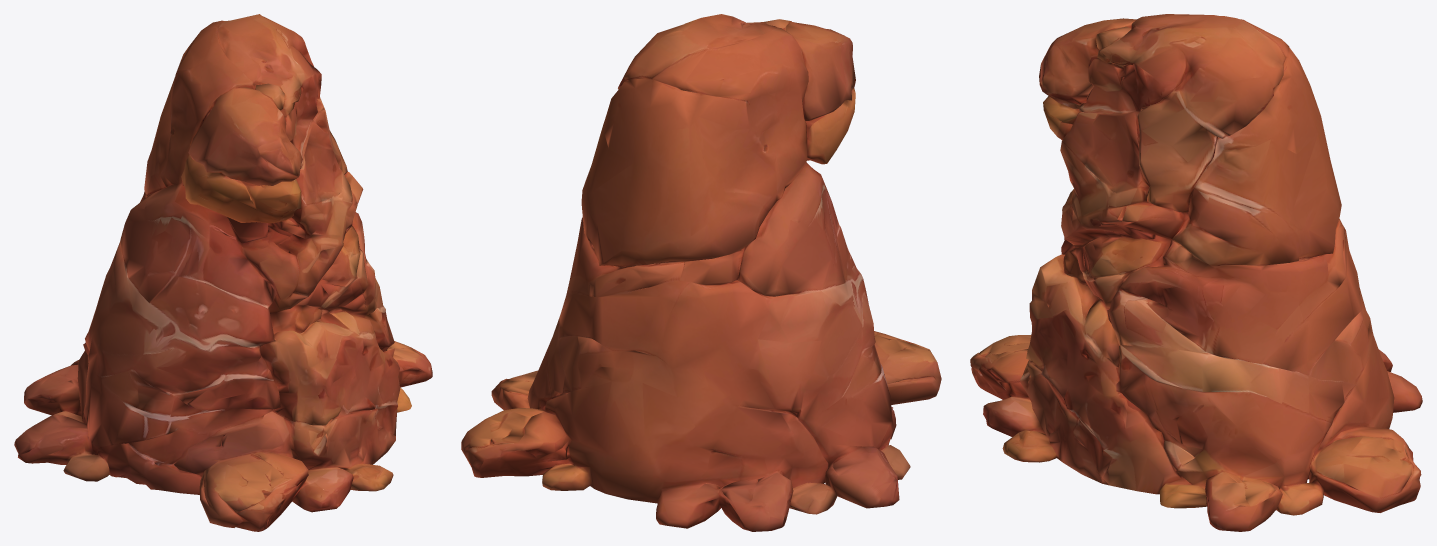
Rendered from prop_mile_rock.fbx.
The picture shows the model from 3 angles, left to right: view 1: azimuth 30°, elevation 25°; view 2: azimuth 150°, elevation 25°; view 3: azimuth 270°, elevation 25°; orthographic projection. The views are drawn at different scales.
Visible parts, largest first — view 1: prop_mile_rock_LOD0; view 2: prop_mile_rock_LOD0; view 3: prop_mile_rock_LOD0.
Boxes of the visible parts, x1,y1,x2,y2 form: prop_mile_rock_LOD0: (14,14,432,531); prop_mile_rock_LOD0: (461,14,941,531); prop_mile_rock_LOD0: (970,14,1422,531).
Size of what is drawn, in the model's own units: 0.9785 by 0.9365 by 0.9243.
